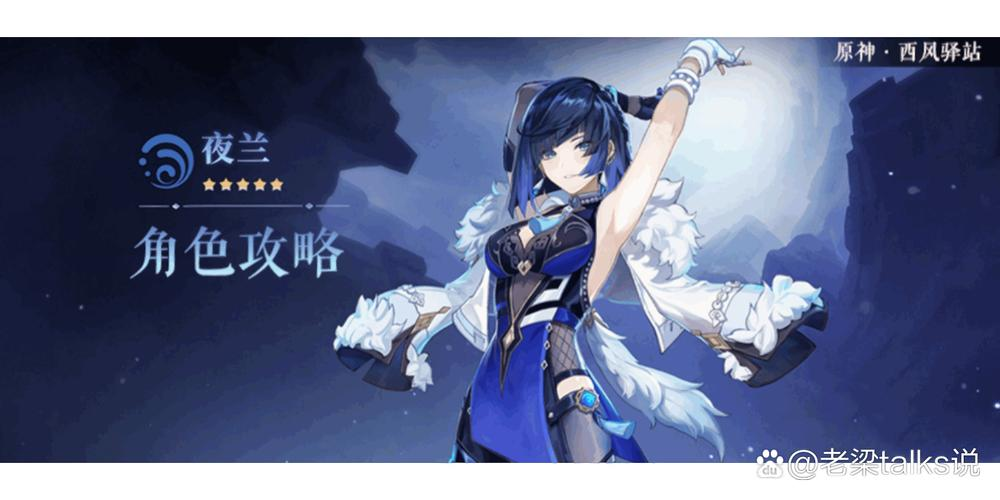夜兰: (444, 39, 751, 468)
